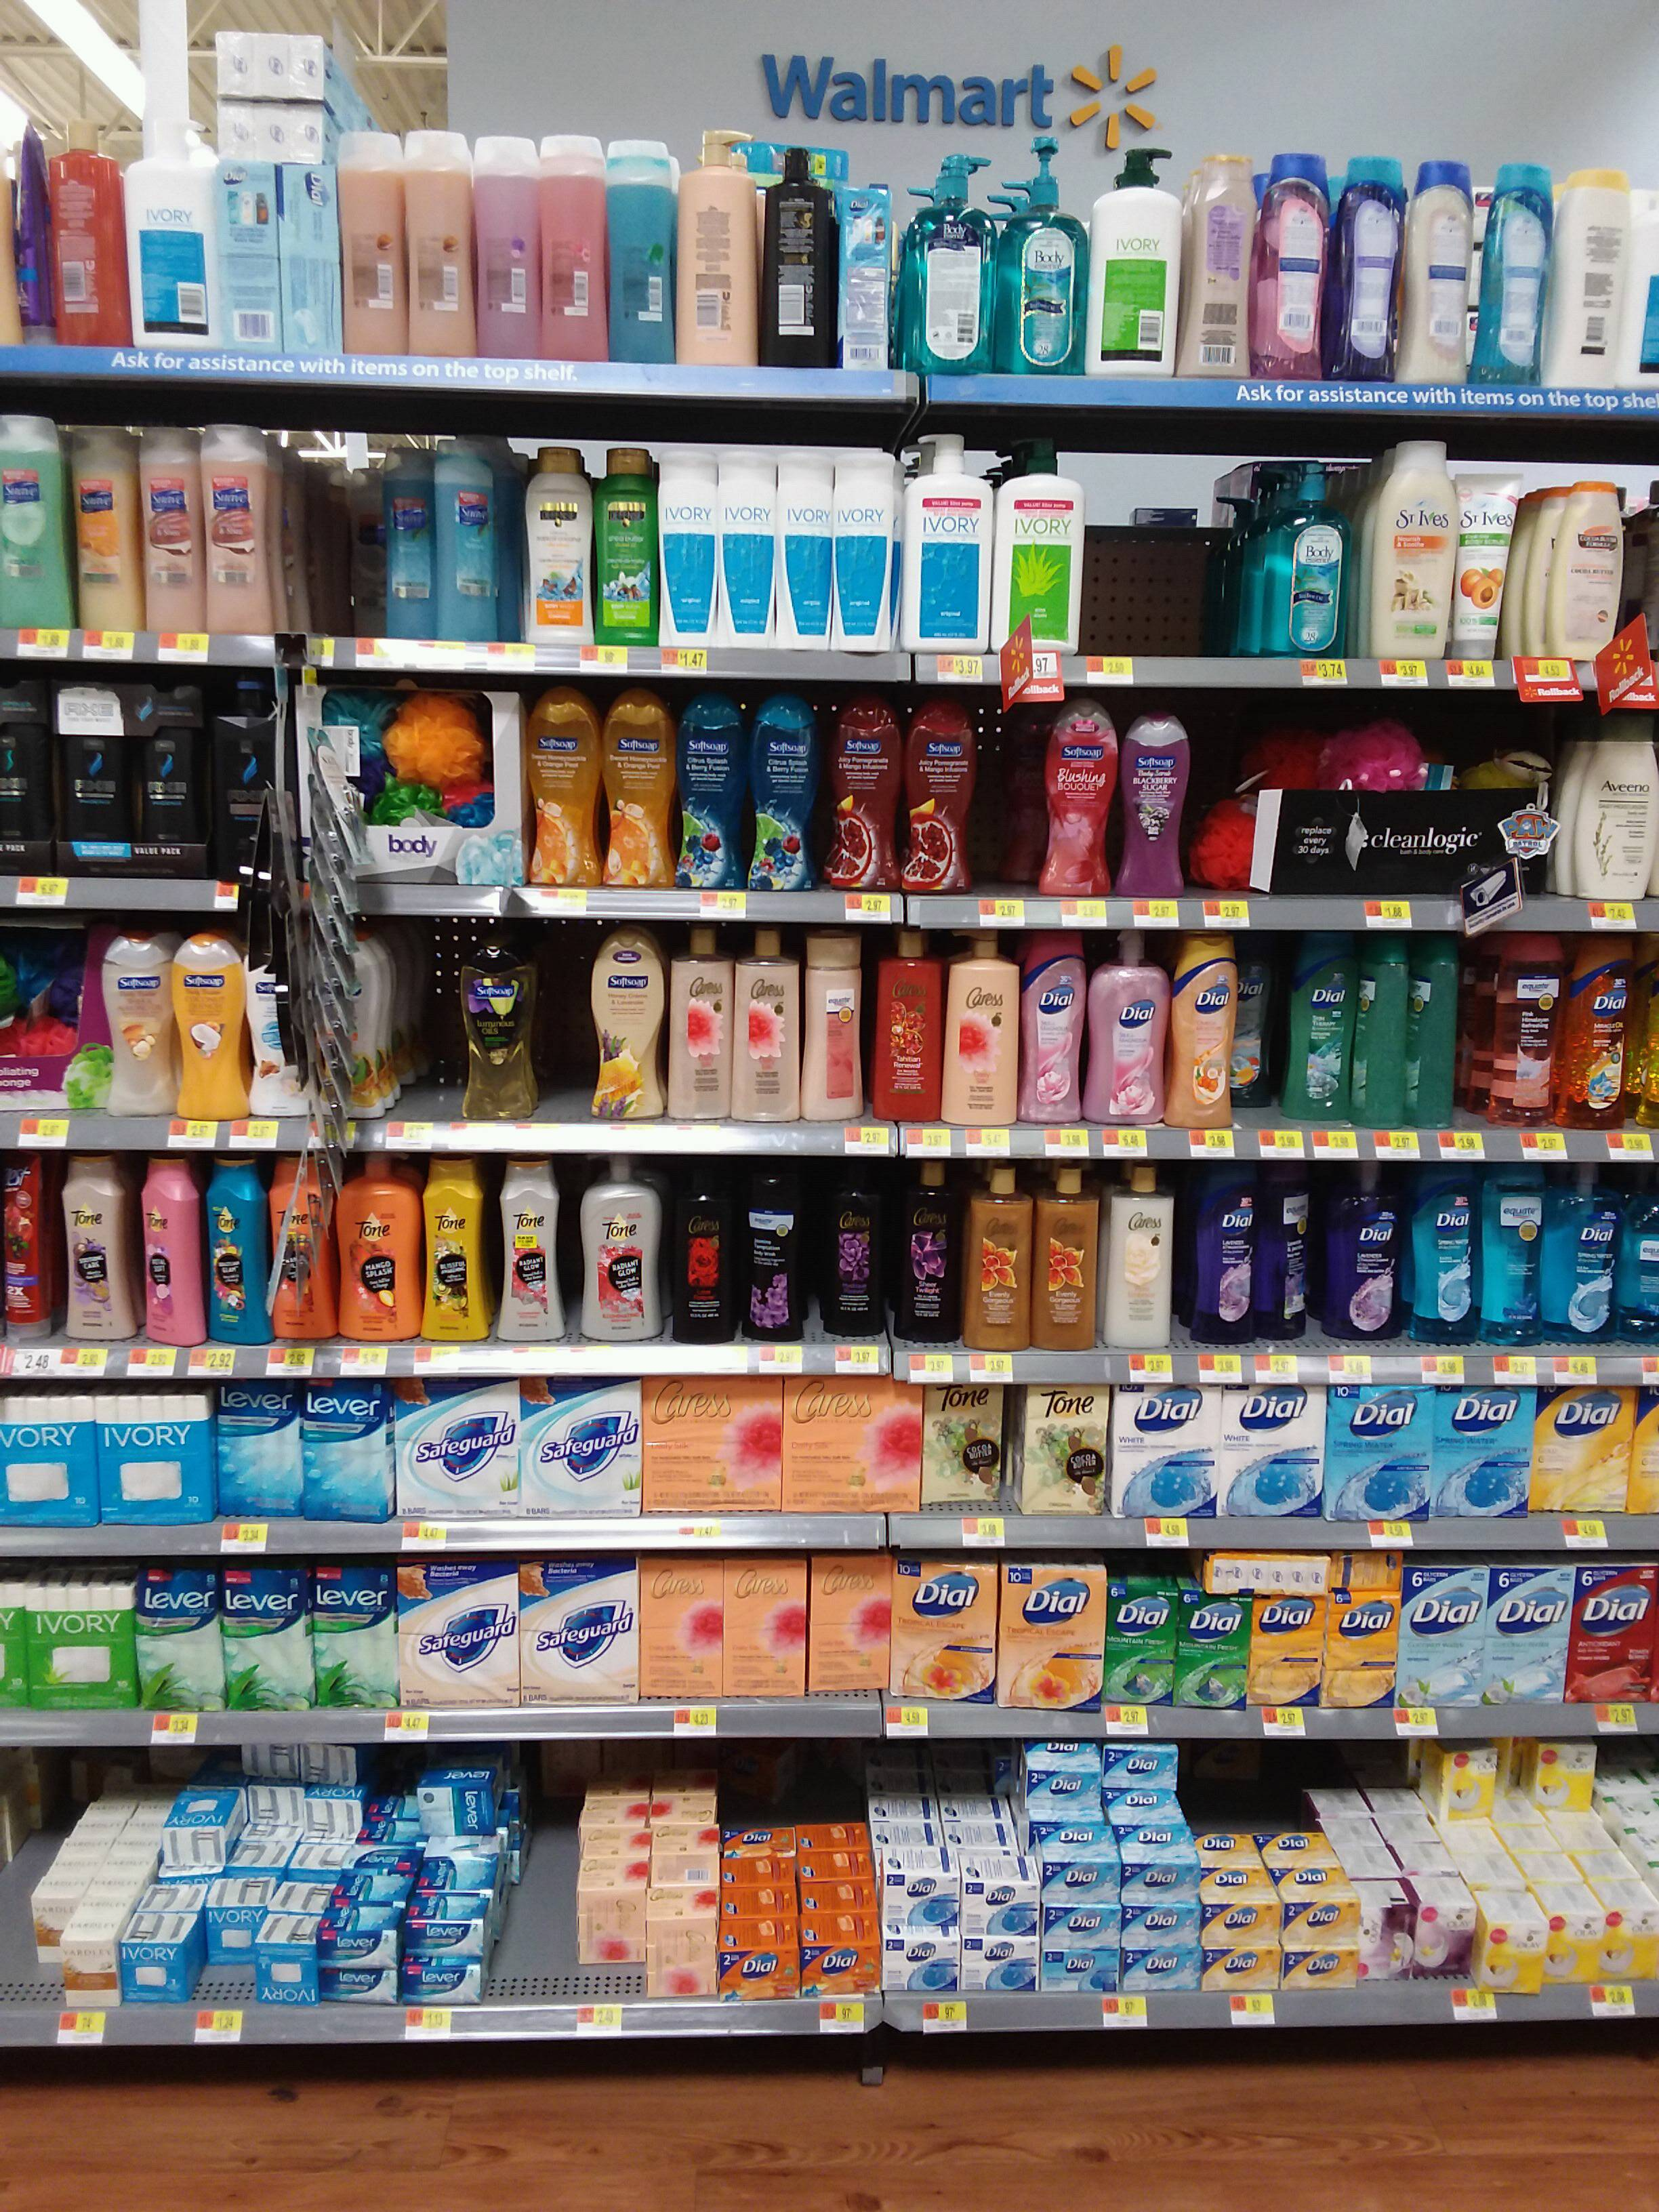Misplacement: (577, 1773, 647, 2003)
Out-of-stock: (1080, 449, 1260, 653)
